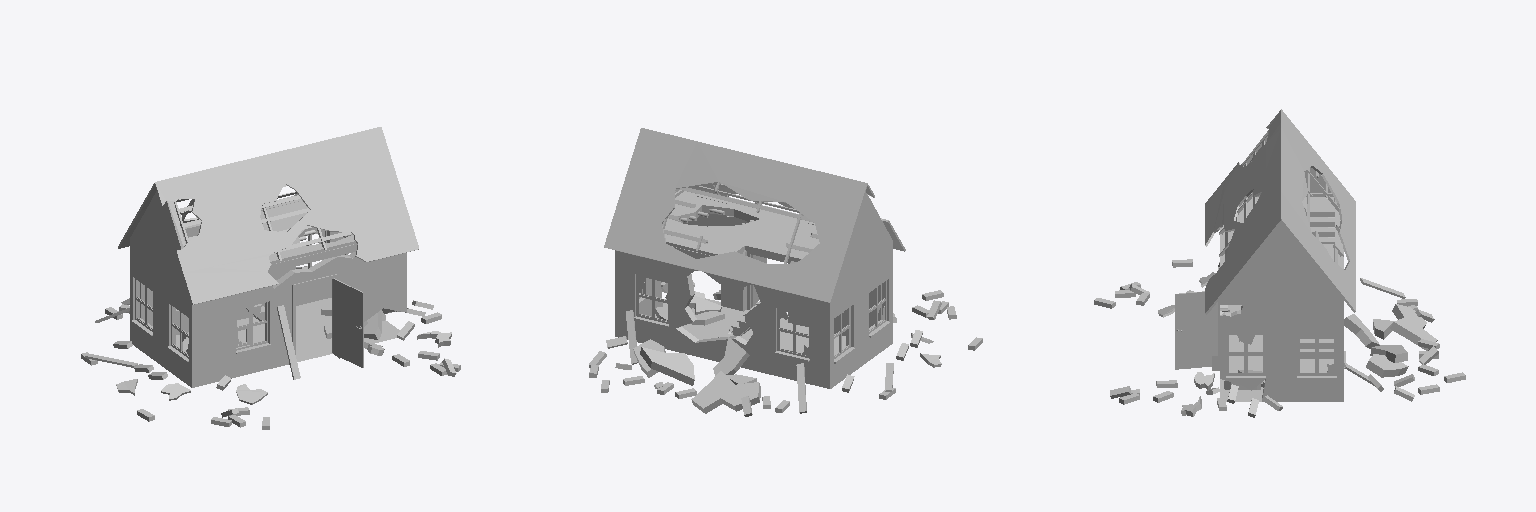
Rendered from ruined_house_01.obj.
3 renders of one model, left to right at view 1: azimuth 30°, elevation 25°; view 2: azimuth 150°, elevation 25°; view 3: azimuth 270°, elevation 25°, orthographic.
Visible parts, largest first — view 1: Roof_0, House_0, Debris_4, Floor.001_0, Door_0, Floor_0, Roof_supports_0, Debris_2, Debris_1, Debris_3, Window_0; view 2: Roof_0, House_0, Floor_0, Debris_2, Debris_4, Roof_supports_0, Floor.001_0, Debris_1, Window.006_0, Window.007_0; view 3: House_0, Roof_0, Debris_2, Debris_4, Door_0, Floor.001_0, Stairs_0, Roof_supports_0, Floor_0, Window.002_0, Window.003_0.
Boxes of the visible parts, <box> form: Roof_0: <box>118,127,418,304</box>; House_0: <box>130,191,406,387</box>; Debris_4: <box>81,227,460,429</box>; Floor.001_0: <box>176,298,399,361</box>; Door_0: <box>333,278,363,367</box>; Floor_0: <box>185,201,356,270</box>; Roof_supports_0: <box>174,184,356,263</box>; Debris_2: <box>276,280,451,355</box>; Debris_1: <box>85,305,300,379</box>; Debris_3: <box>116,379,267,404</box>; Window_0: <box>236,302,270,353</box>; Roof_0: <box>604,128,905,302</box>; House_0: <box>615,189,892,388</box>; Floor_0: <box>664,191,819,263</box>; Debris_2: <box>633,290,760,413</box>; Debris_4: <box>589,209,982,416</box>; Roof_supports_0: <box>662,182,818,263</box>; Floor.001_0: <box>655,298,845,352</box>; Debris_1: <box>626,310,893,413</box>; Window.006_0: <box>634,274,668,327</box>; Window.007_0: <box>774,309,809,361</box>; House_0: <box>1220,131,1343,401</box>; Roof_0: <box>1205,109,1355,314</box>; Debris_2: <box>1181,304,1437,416</box>; Debris_4: <box>1094,259,1465,417</box>; Door_0: <box>1175,291,1217,369</box>; Floor.001_0: <box>1220,305,1333,401</box>; Stairs_0: <box>1300,217,1334,358</box>; Roof_supports_0: <box>1219,135,1343,268</box>; Floor_0: <box>1220,197,1334,304</box>; Window.002_0: <box>1226,334,1265,378</box>; Window.003_0: <box>1297,334,1336,378</box>.
Bounding box in the file's own units: 9.09 × 5.23 × 8.98.